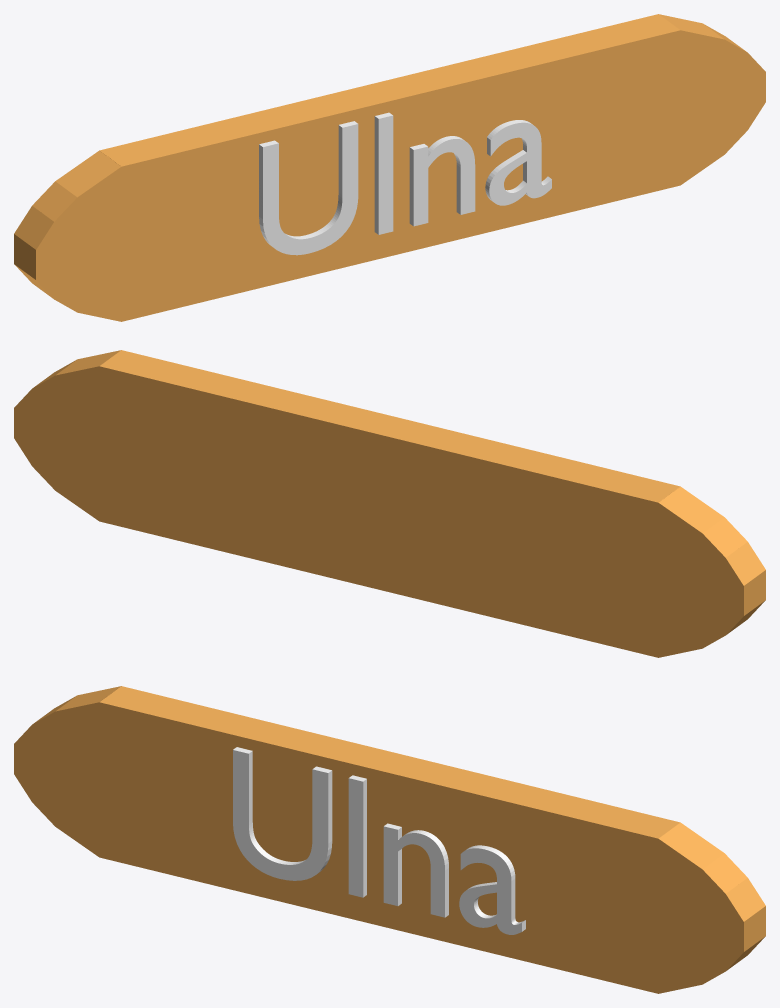
The model's file is txtUlna.fbx.
3 views of the same model, one above another, from view 1: azimuth 30°, elevation 25°; view 2: azimuth 150°, elevation 25°; view 3: azimuth 330°, elevation 25° (orthographic).
Visible parts, largest first — view 1: TagContainer.010, Text.010; view 2: TagContainer.010; view 3: TagContainer.010, Text.010.
Part boxes in pixels (<box>): TagContainer.010: <box>14,14,765,321</box>; Text.010: <box>259,112,551,255</box>; TagContainer.010: <box>14,350,765,657</box>; TagContainer.010: <box>14,686,765,993</box>; Text.010: <box>233,747,525,934</box>.
Bounding box in the file's own units: 203 × 41.3 × 12.58.
